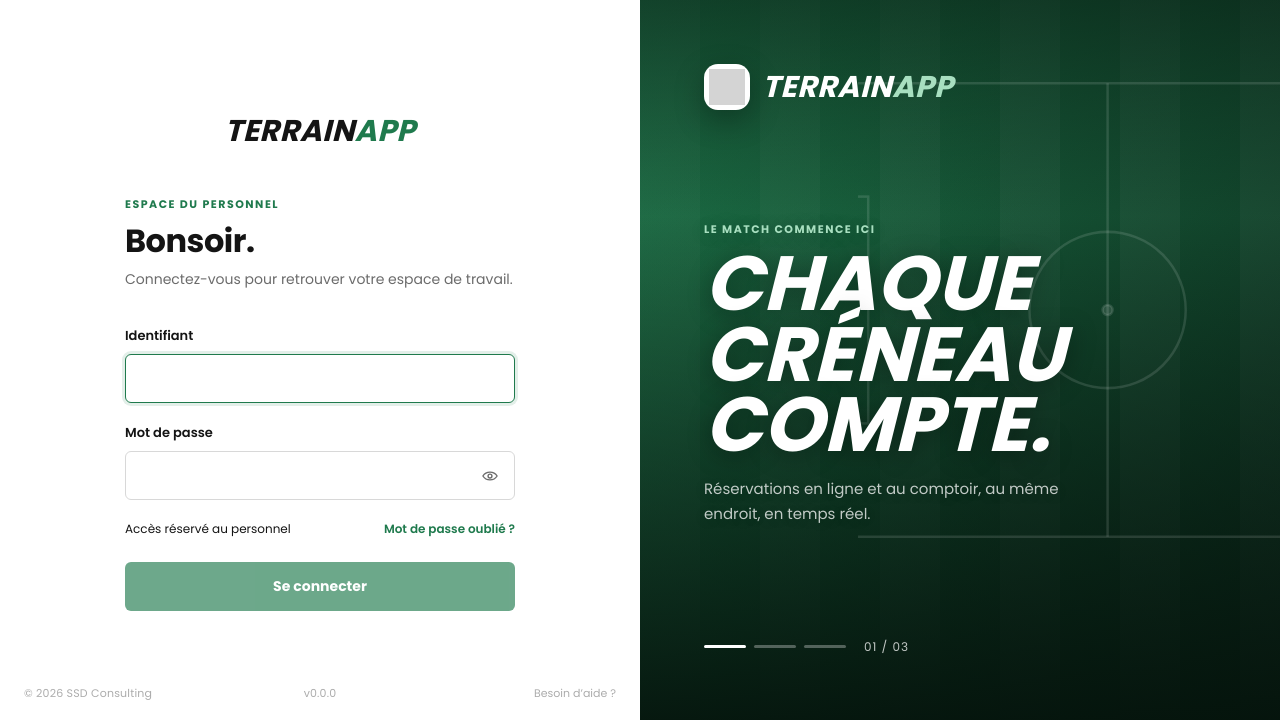
it: Connexion › requires a new password after a temporary-password login
Later steps or results of the test are not shown.
Type "gerant" into the field labelled "Identifiant" at (320, 379), box x1=125 y1=354 x2=515 y2=403
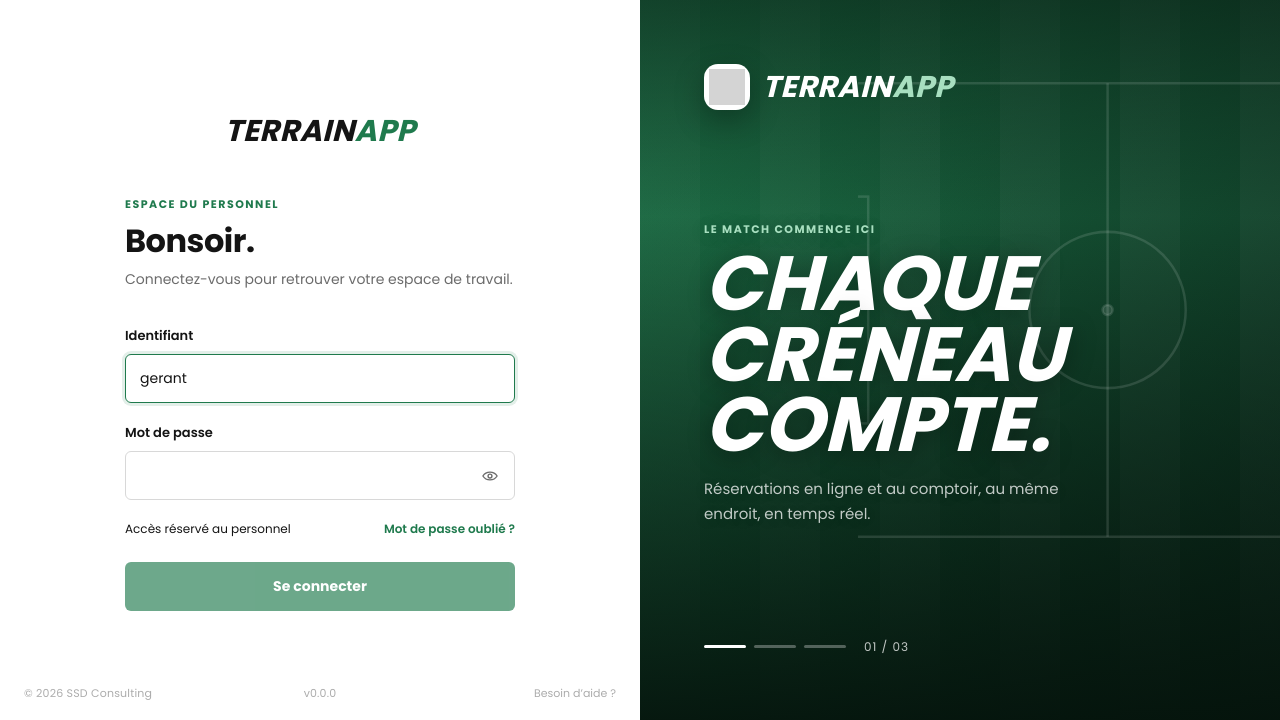
Type "temp-password" into the password field labelled "Mot de passe" at (320, 476), box x1=125 y1=451 x2=515 y2=500
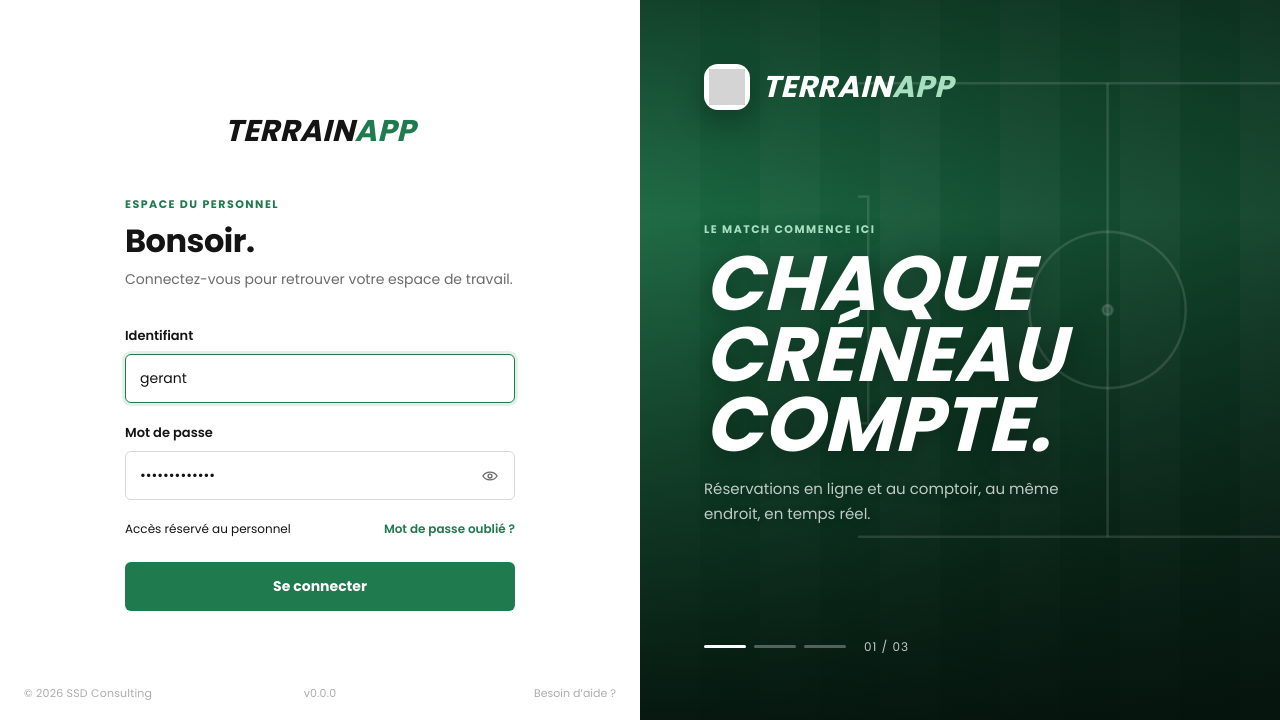
Click the button "Se connecter" at (320, 587), box x1=125 y1=562 x2=515 y2=611
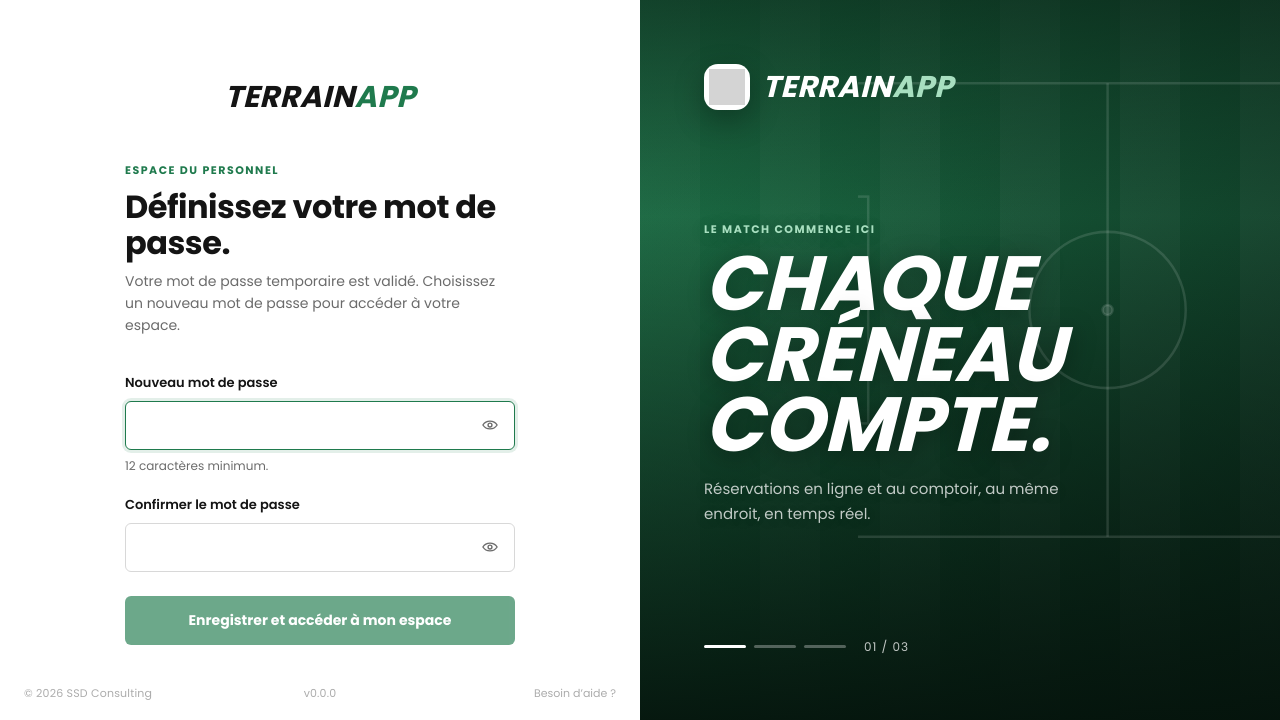
Check: the heading "Définissez votre mot de passe." is shown, box x1=125 y1=189 x2=515 y2=260
